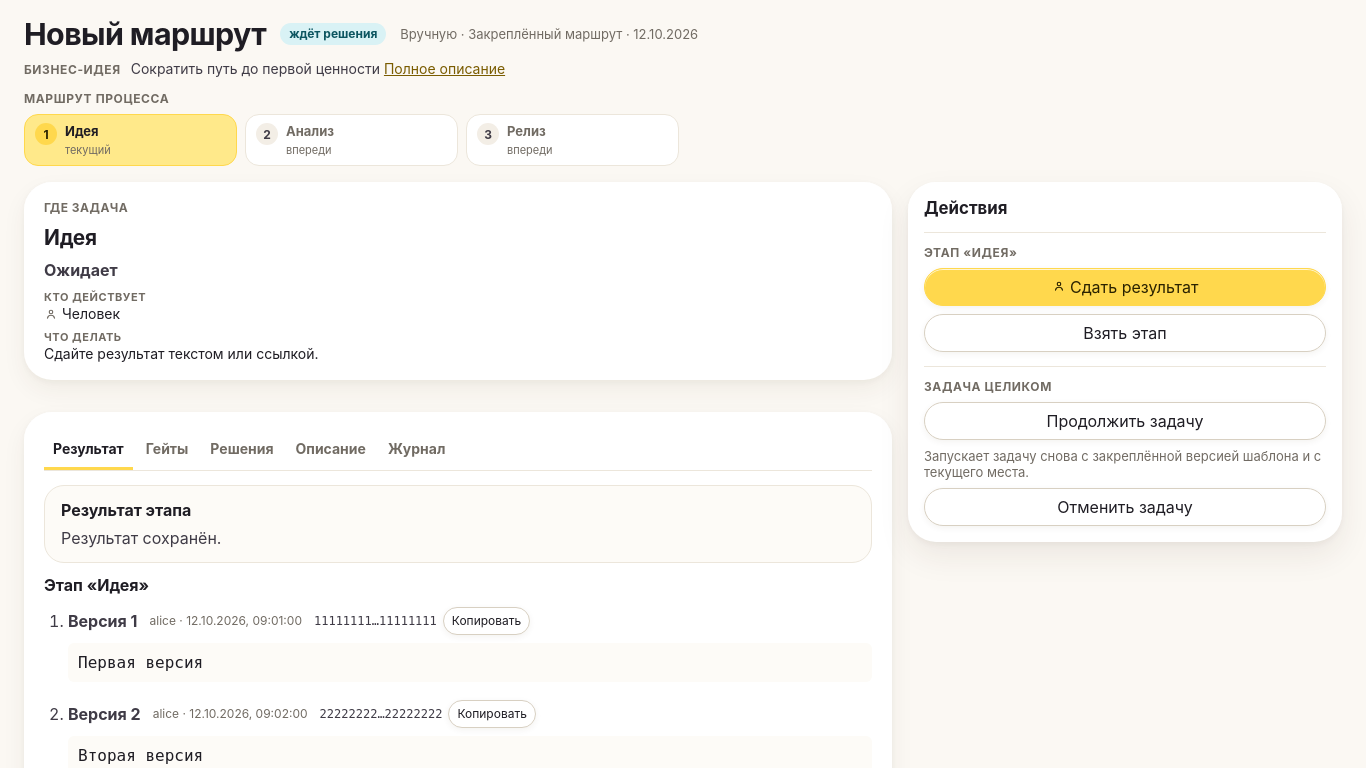
Test: Task detail › keeps resolved grill questions and decisions in task history
The width and height of the screenshot is (1366, 768).
Click the tab "Решения": (242, 450) 201,430 -> 283,470
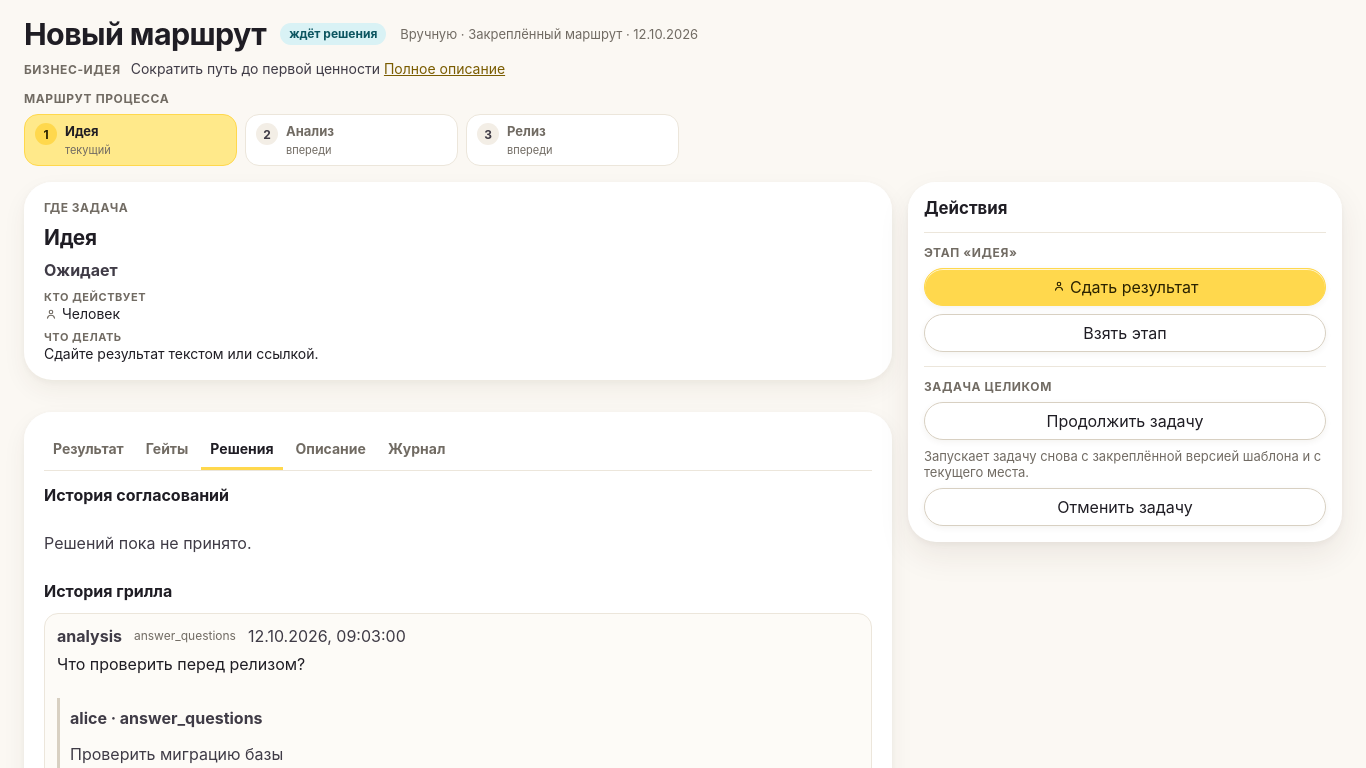
Expected: the heading "История грилла" is shown, 44,581 -> 172,601
Expected: the text "Что проверить перед релизом?" is shown, 57,654 -> 305,674
Expected: the text "Проверить миграцию базы" is shown, 70,744 -> 283,764
